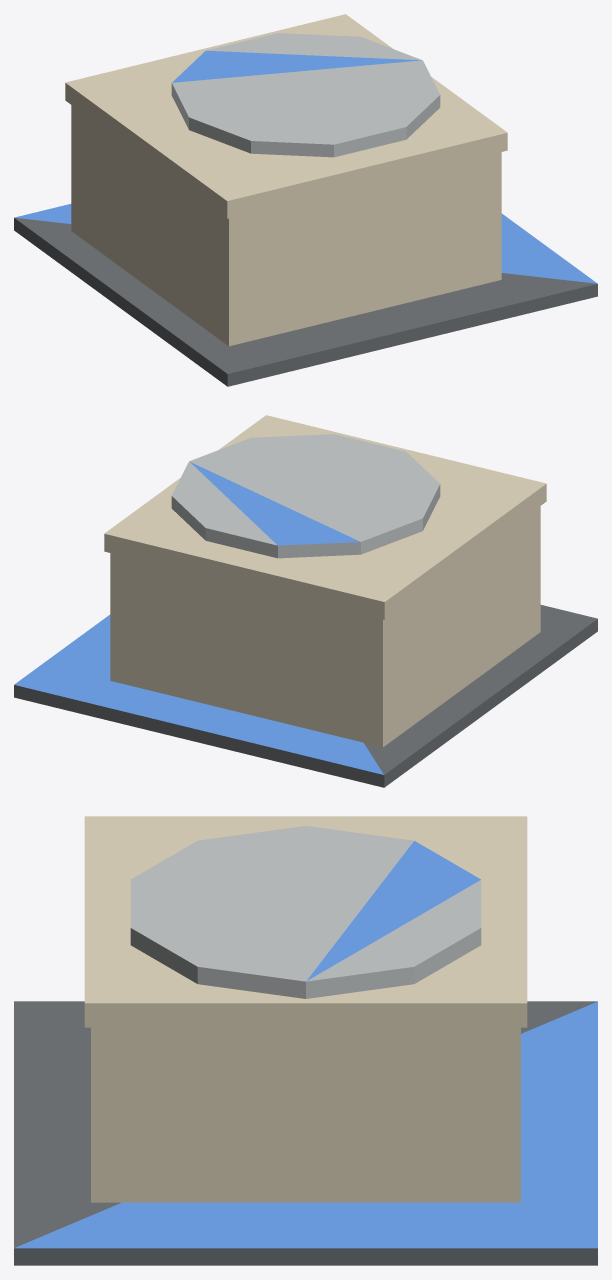
The model's file is meridian_radar.glb.
The picture shows the model from 3 angles, top to bottom: view 1: azimuth 30°, elevation 25°; view 2: azimuth 150°, elevation 25°; view 3: azimuth 270°, elevation 25°; orthographic projection. The views are drawn at different scales.
Parts seen in each view (by area): view 1: hull, dish; view 2: hull, dish; view 3: hull, dish.
Boxes of the visible parts, box(x1,y1,x2,y2) form: hull: box(14, 14, 597, 386); dish: box(171, 33, 440, 157); hull: box(14, 415, 597, 787); dish: box(171, 434, 440, 558); hull: box(14, 816, 597, 1265); dish: box(130, 826, 481, 998).
Size of the model in its own units: 7.6 by 3.42 by 7.6.
